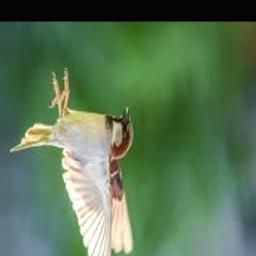Sparrow: (9, 69, 135, 256)
